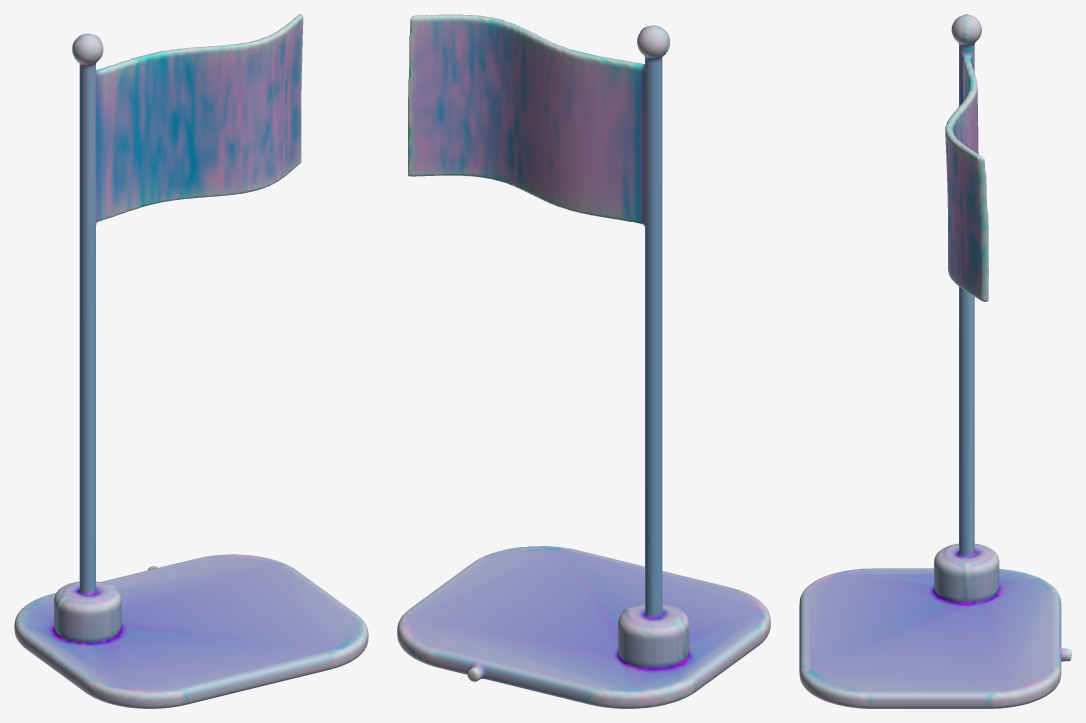
File: flag.glb
3 views of the same model, side by side, from view 1: azimuth 30°, elevation 25°; view 2: azimuth 150°, elevation 25°; view 3: azimuth 270°, elevation 25° (orthographic). The views are drawn at different scales.
Visible parts, largest first — view 1: flag; view 2: flag; view 3: flag.
Boxes of the visible parts, left/top/right/bottom form: flag: left=14, top=14, right=368, bottom=708; flag: left=397, top=14, right=770, bottom=708; flag: left=799, top=14, right=1071, bottom=708.
Bounding box in the file's own units: 0.4216 × 0.896 × 0.374.
